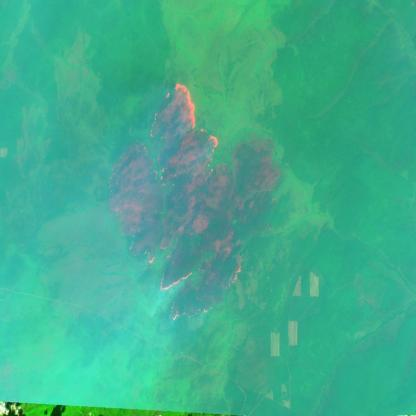fire: (145, 80, 220, 293)
